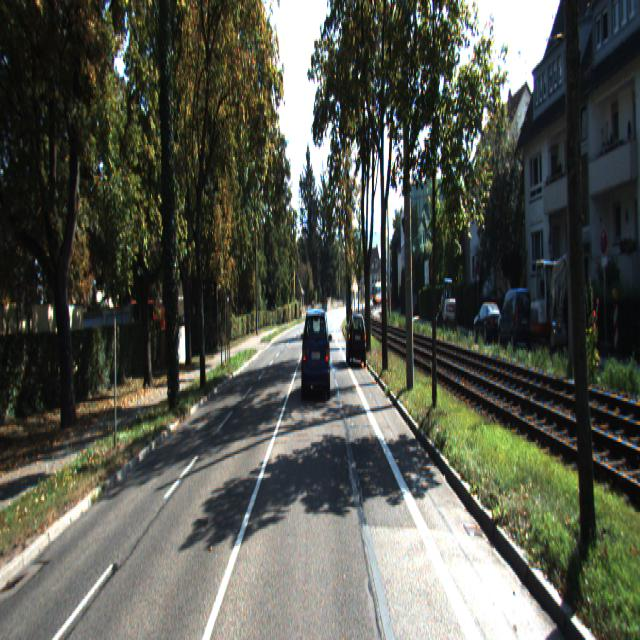Car: (301, 301, 332, 399), (530, 255, 559, 353), (498, 284, 534, 349), (474, 302, 505, 347), (346, 307, 367, 364), (442, 280, 456, 329)
